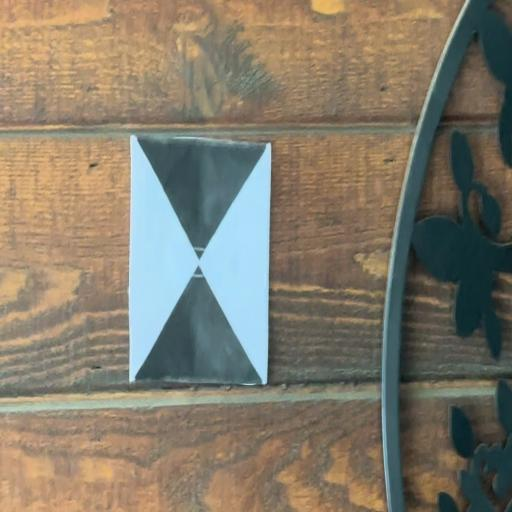target: (129, 136, 268, 385)
